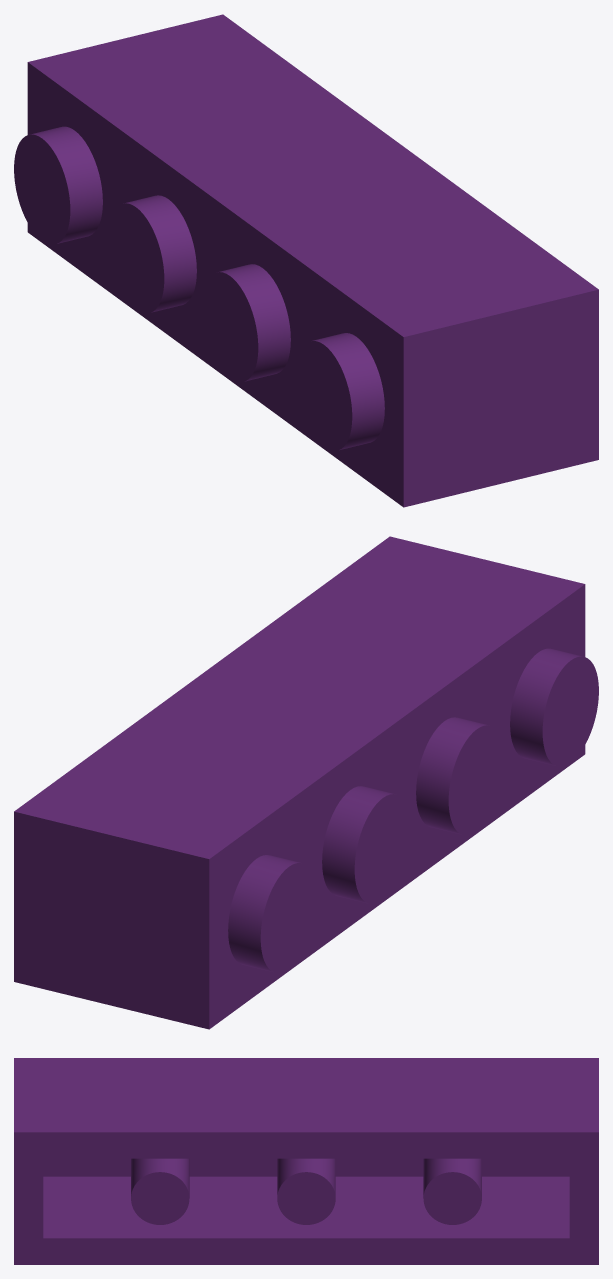
The model's file is brick1*4_medium_lavender.obj.
3 views of the same model, one above another, from view 1: azimuth 30°, elevation 25°; view 2: azimuth 150°, elevation 25°; view 3: azimuth 270°, elevation 25° (orthographic). The views are drawn at different scales.
Parts seen in each view (by area): view 1: brick1*4_medium_lavender; view 2: brick1*4_medium_lavender; view 3: brick1*4_medium_lavender.
Part boxes in pixels (x1=…): brick1*4_medium_lavender: x1=14, y1=14, x2=598, y2=507; brick1*4_medium_lavender: x1=14, y1=536, x2=598, y2=1029; brick1*4_medium_lavender: x1=14, y1=1058, x2=598, y2=1264.
Size of the model in its own units: 28 by 20 by 80.
